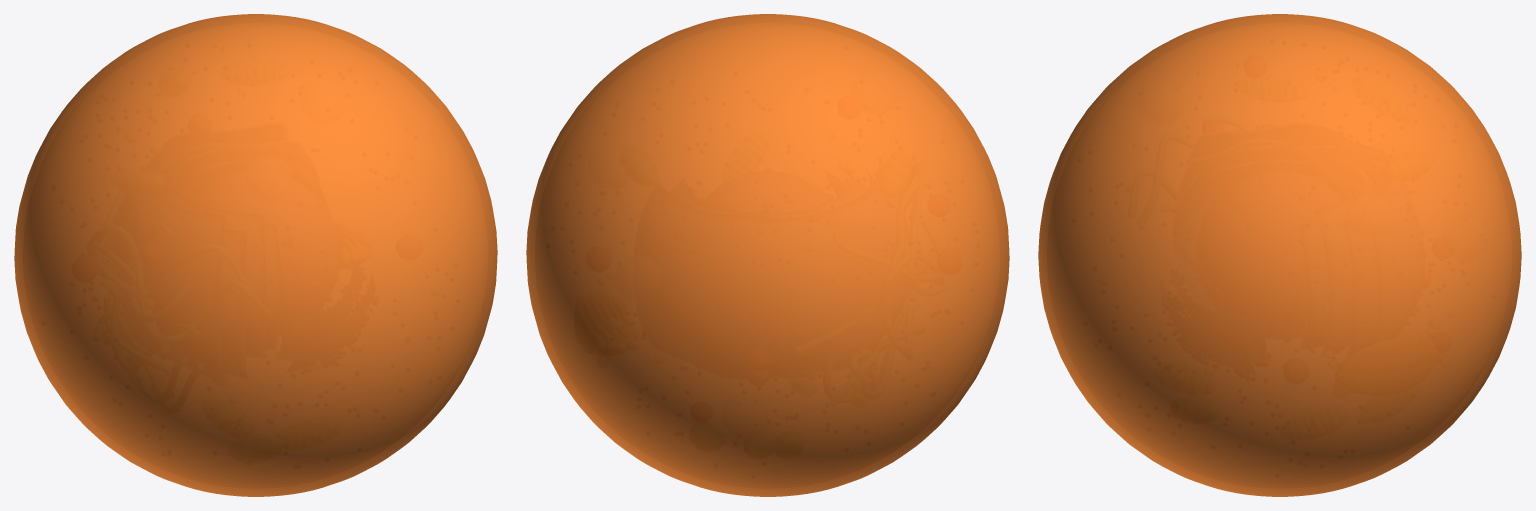
The model's file is animal_cell_full.glb.
The picture shows the model from 3 angles, left to right: view 1: azimuth 30°, elevation 25°; view 2: azimuth 150°, elevation 25°; view 3: azimuth 270°, elevation 25°; orthographic projection.
Parts seen in each view (by area): view 1: Cell_Membrane; view 2: Cell_Membrane; view 3: Cell_Membrane.
Boxes of the visible parts, x1,y1,x2,y2 form: Cell_Membrane: (14, 14, 497, 496); Cell_Membrane: (526, 14, 1009, 496); Cell_Membrane: (1038, 14, 1521, 496).
Size of the model in its own units: 4 by 4 by 4.
